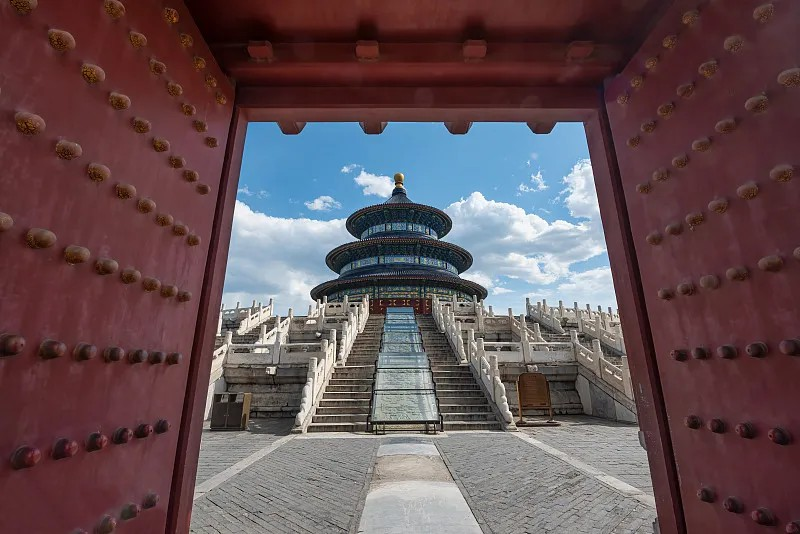Heaven: (310, 172, 489, 316)
